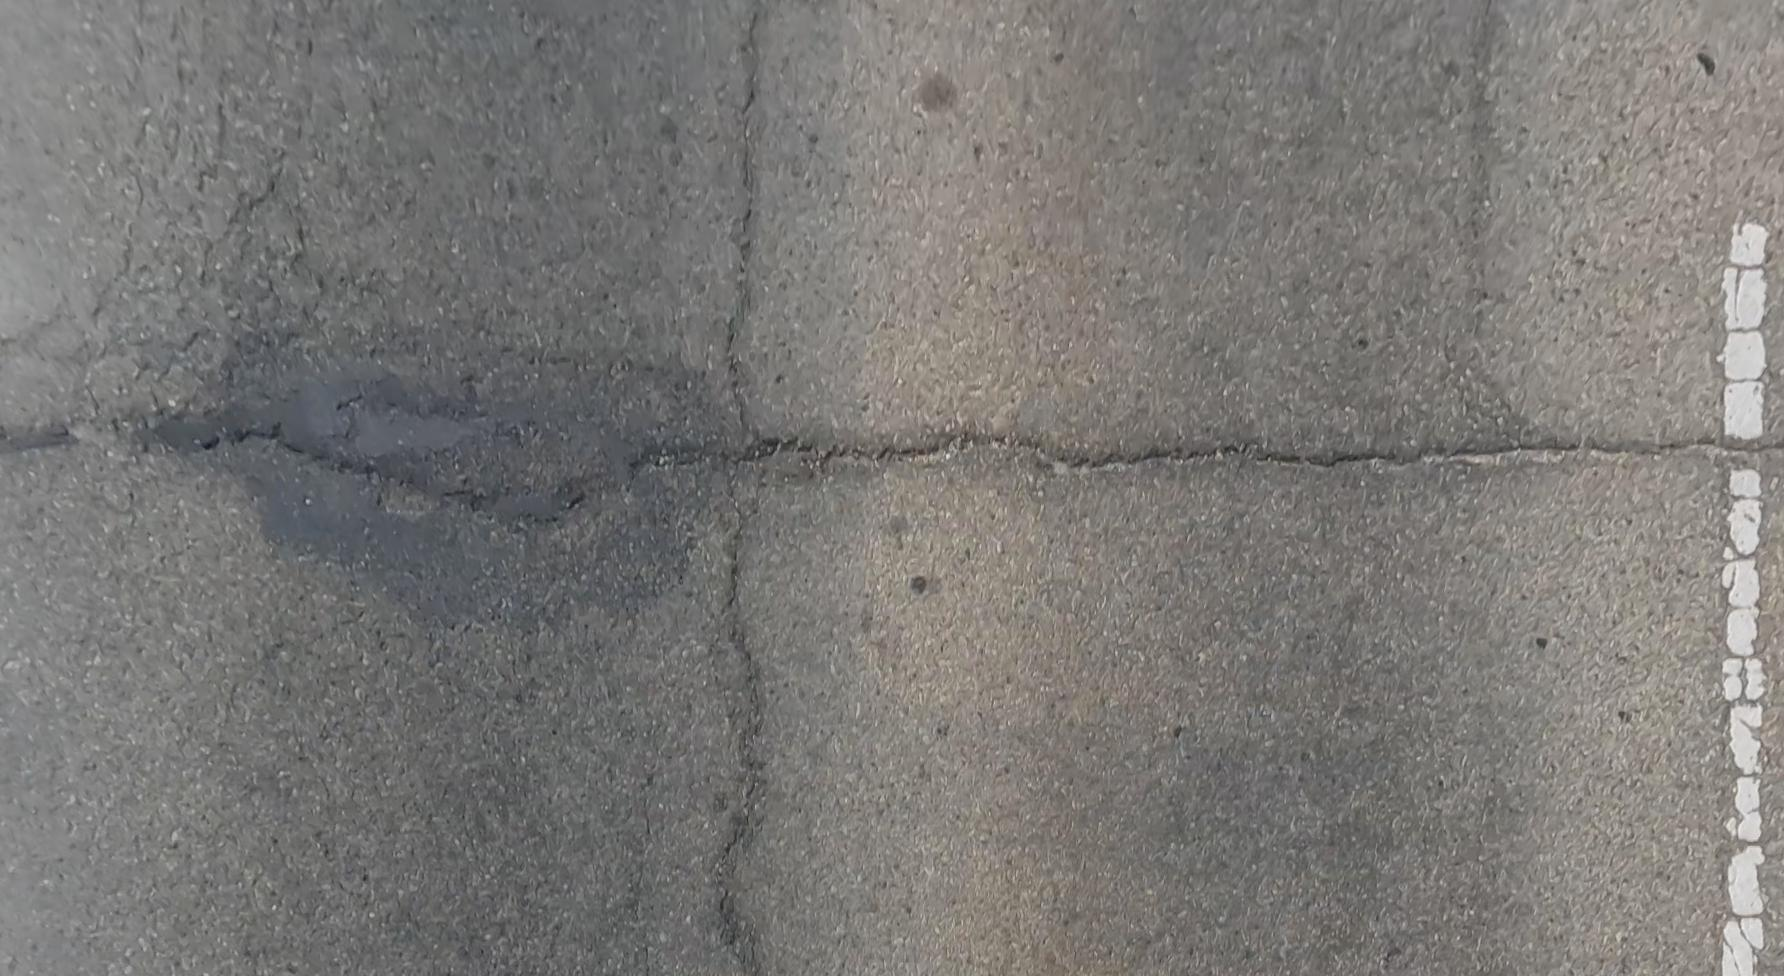pothole_patch_poor: (150, 339, 722, 625)
